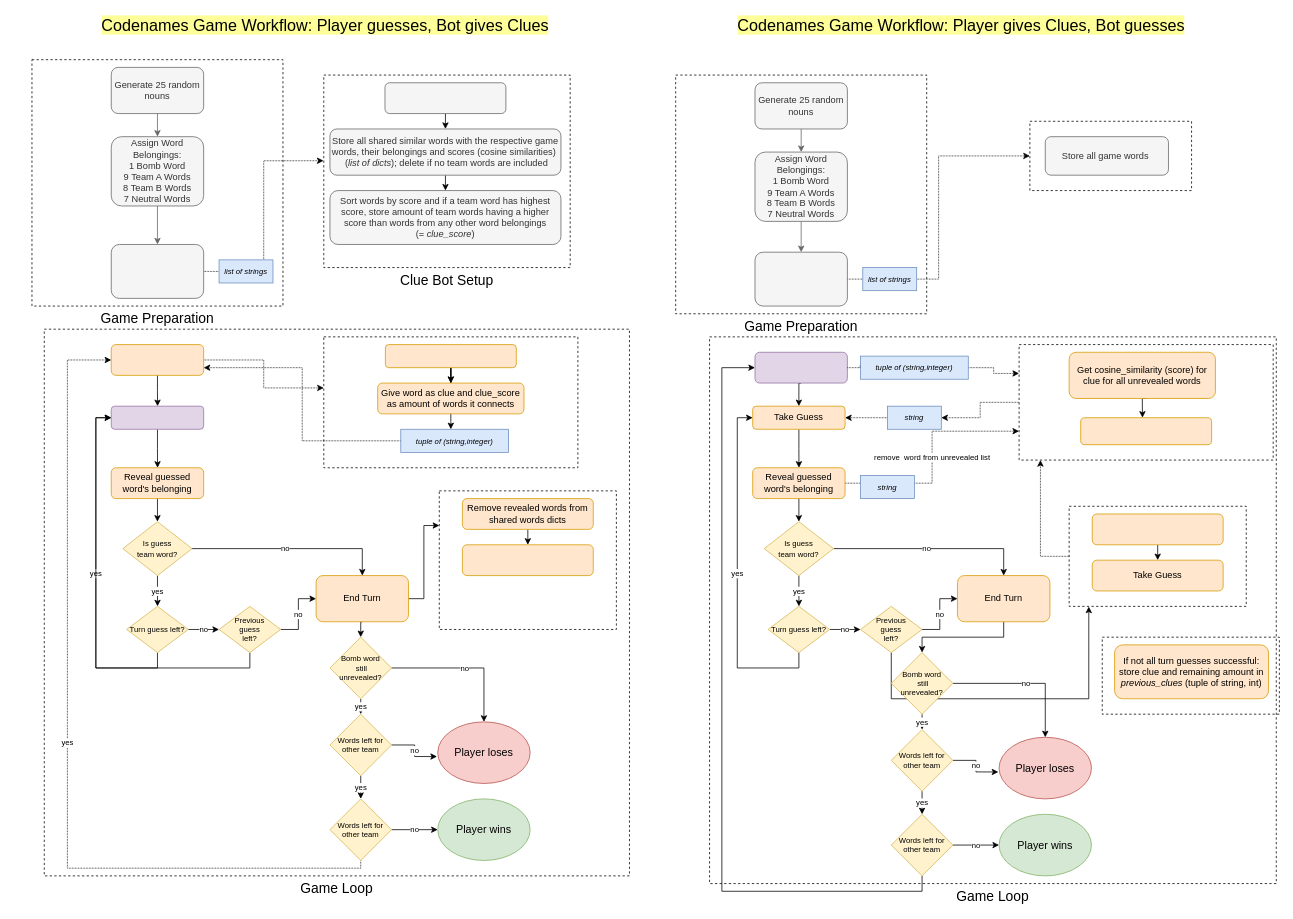
Image size: 1293x919. Some labels were removed from this diagram. Each missing label, with the box of its shape:
Adjust clue_score for all shared words: (462, 544, 593, 576)
Bonus Guessing: (1068, 506, 1246, 606)
Clue Bot Turn End Handling: (439, 490, 616, 629)
Clue Generation: (323, 336, 578, 468)
Clue Guessing: (1018, 344, 1273, 460)
Generate Clue: (110, 344, 204, 375)
Get clue from previous_clues: (1091, 513, 1223, 545)
Get shared word with highest clue_score: (385, 344, 516, 368)
Get x (e.g. 200) most similar words for all game words: (384, 82, 506, 114)
Guess word with highest score: (1080, 417, 1212, 445)
Guesser Bot Setup: (1029, 121, 1192, 191)
Guesser Bot Turn End Handling: (1101, 636, 1279, 714)
Player: Give Clue and amount of words: (754, 352, 847, 383)
Player: Take Guess: (110, 405, 204, 429)
Show words and belongings to Player / initialize Bot Class with words: (754, 251, 847, 306)
Show words to Player / initialize Bot Class with words and belongings: (110, 244, 204, 298)
